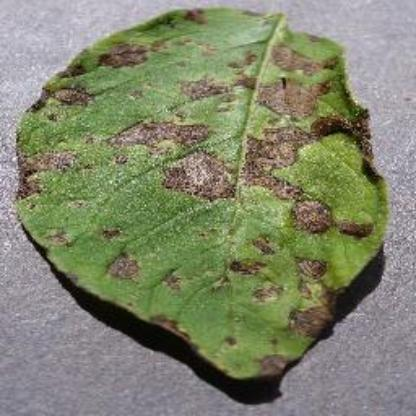Early-Blight: (11, 0, 408, 390)
